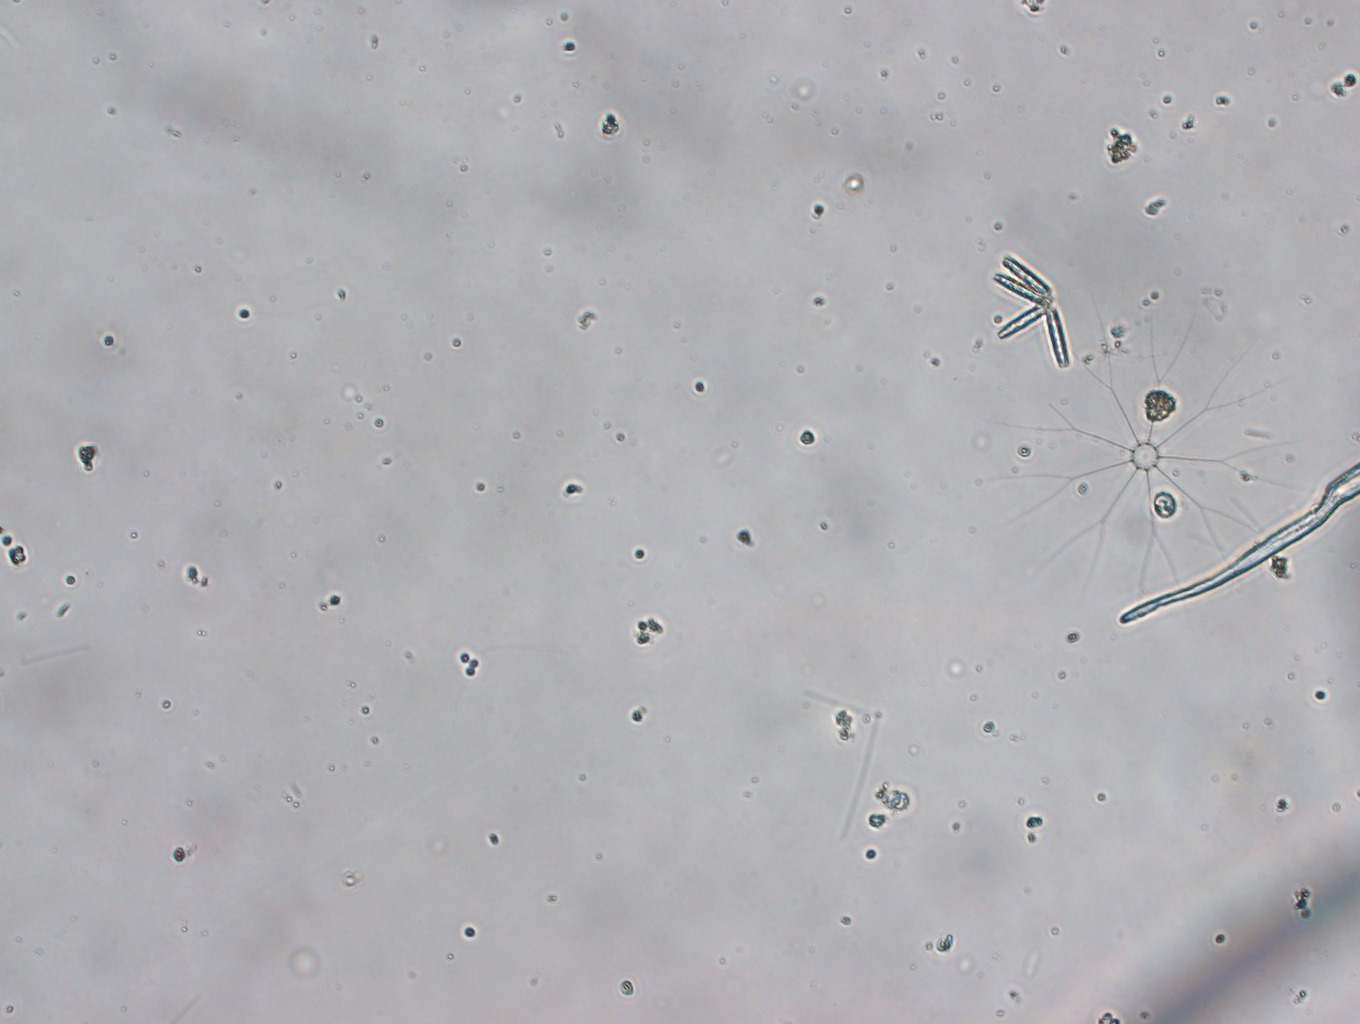bacteriastrum: (1023, 335, 1278, 605)
thalassionema frauenfeldii: (986, 245, 1073, 369)
